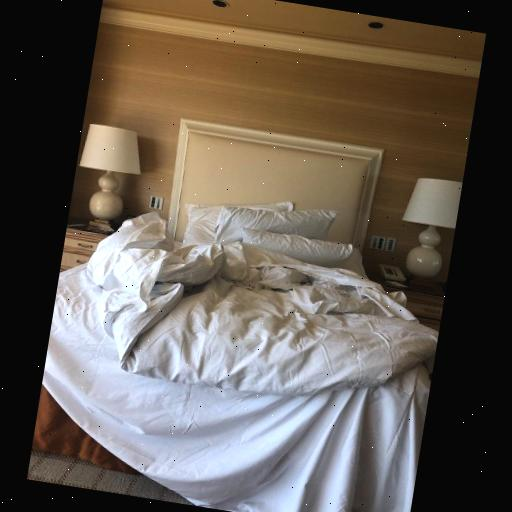Disorganized_pillow: (184, 202, 352, 270)
lamp: (66, 112, 148, 239), (389, 170, 463, 288)
messy_bed: (30, 119, 432, 512)
